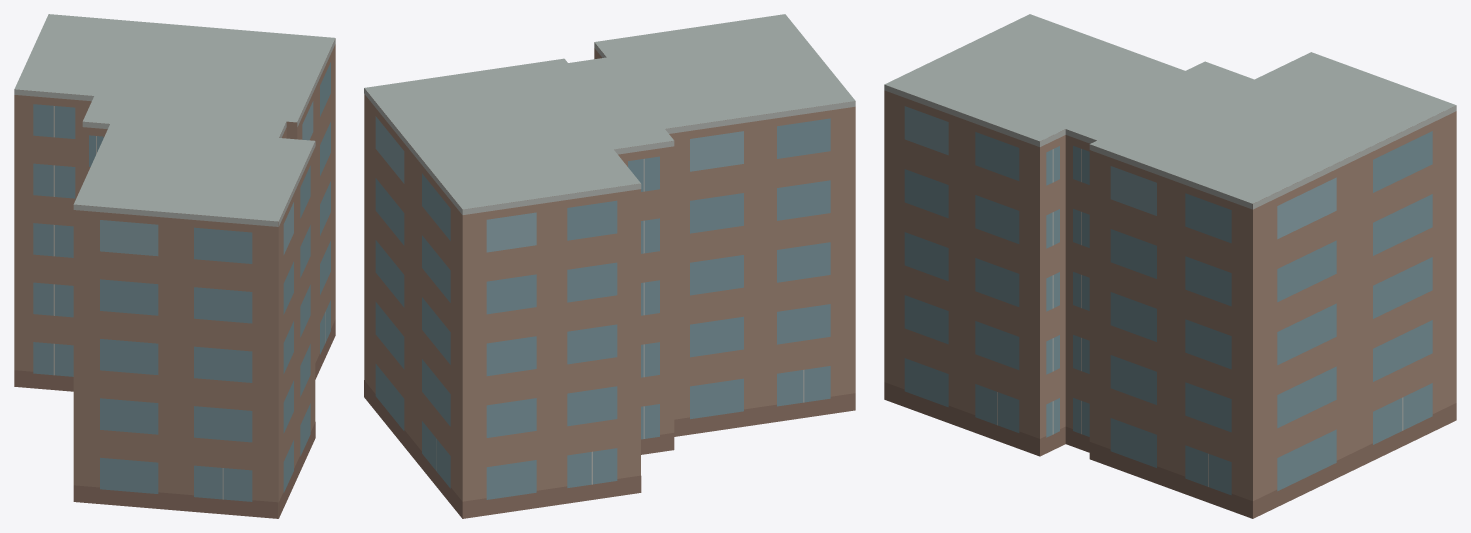
The model's file is survey-upis-32871804.glb.
3 renders of one model, left to right at view 1: azimuth 30°, elevation 25°; view 2: azimuth 150°, elevation 25°; view 3: azimuth 270°, elevation 25°, orthographic. The views are drawn at different scales.
Parts seen in each view (by area): view 1: survey-upis-32871804.tmp; view 2: survey-upis-32871804.tmp; view 3: survey-upis-32871804.tmp.
Boxes of the visible parts, left/top/right/bottom form: survey-upis-32871804.tmp: left=14, top=14, right=335, bottom=518; survey-upis-32871804.tmp: left=364, top=14, right=855, bottom=518; survey-upis-32871804.tmp: left=884, top=14, right=1456, bottom=518.
Bounding box in the file's own units: 17.2 × 13.3 × 21.91.
